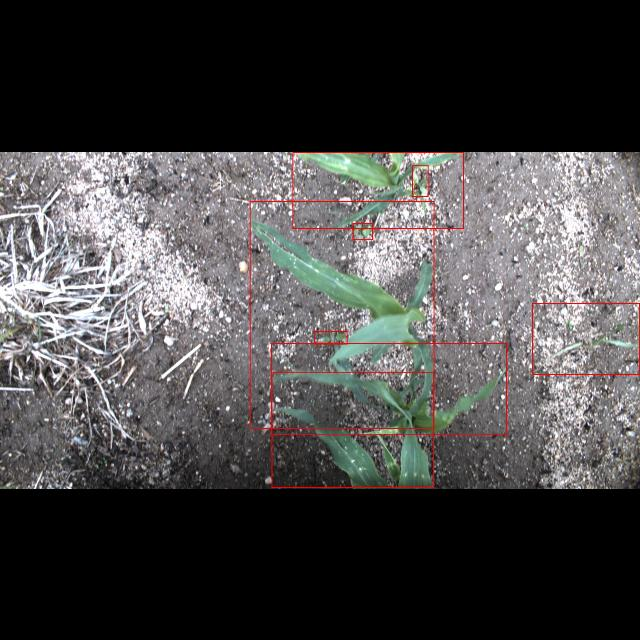crop: (250, 200, 434, 428), (272, 343, 506, 435), (272, 371, 434, 487), (292, 151, 463, 227)
weed: (532, 302, 640, 373), (412, 164, 428, 196), (315, 331, 347, 344), (353, 223, 373, 239)
